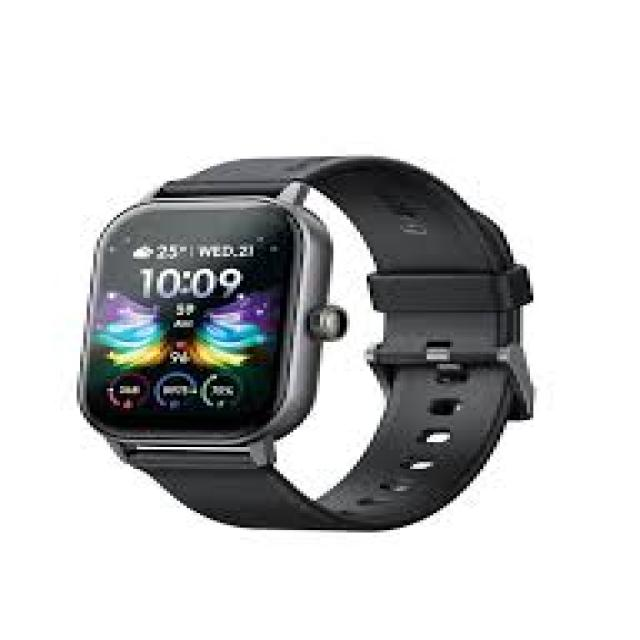objects: (73, 119, 533, 540)
